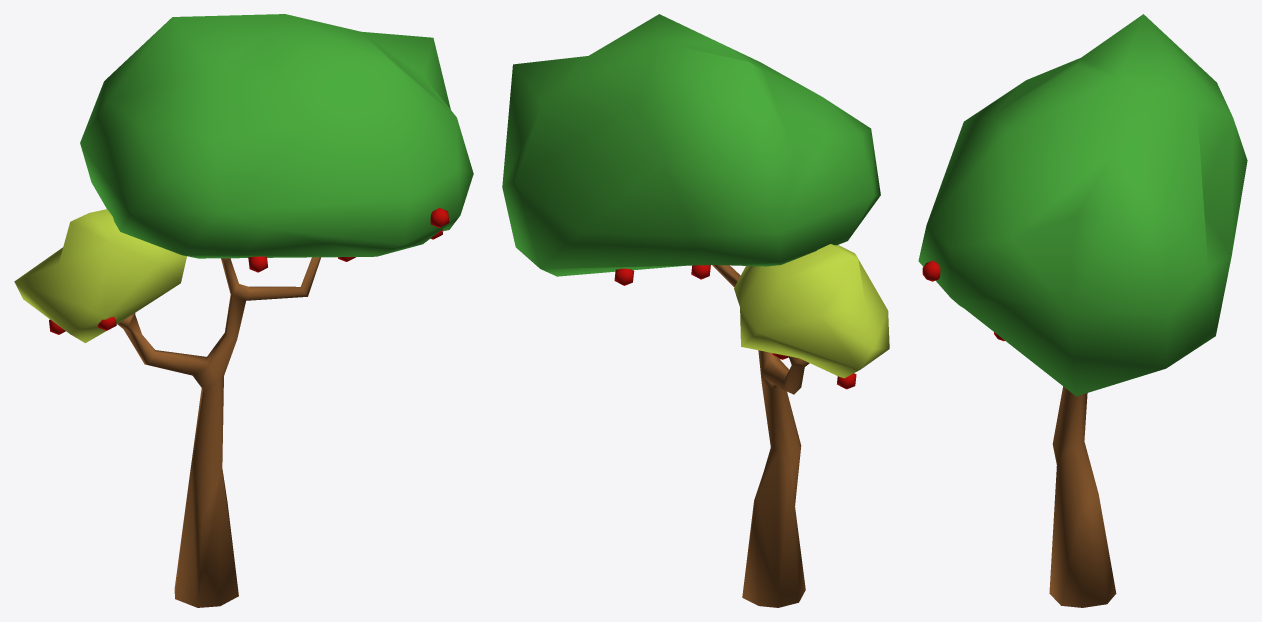
File: env_apple_tree2.glb
3 renders of one model, left to right at view 1: azimuth 30°, elevation 25°; view 2: azimuth 150°, elevation 25°; view 3: azimuth 270°, elevation 25°, orthographic. The views are drawn at different scales.
Parts seen in each view (by area): view 1: Lowpoly_Tree_05; view 2: Lowpoly_Tree_05; view 3: Lowpoly_Tree_05.
Part boxes in pixels (<box>): Lowpoly_Tree_05: <box>14,14,473,607</box>; Lowpoly_Tree_05: <box>502,14,889,607</box>; Lowpoly_Tree_05: <box>918,14,1247,607</box>.
Bounding box in the file's own units: 1.27 × 1.73 × 0.8909.
